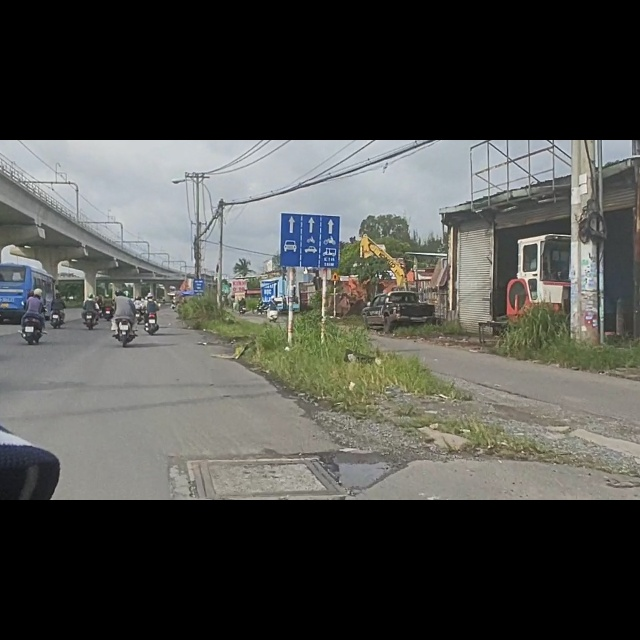bien_chi_dan: (278, 124, 342, 229), (329, 233, 341, 251)
